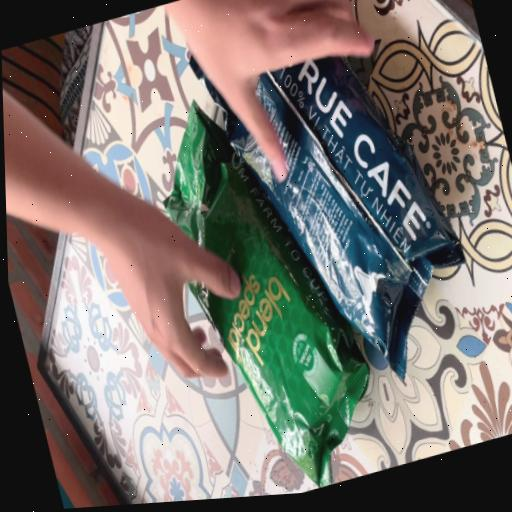cafe_hat: (189, 55, 464, 378)
cafe_xay: (164, 102, 369, 487)
